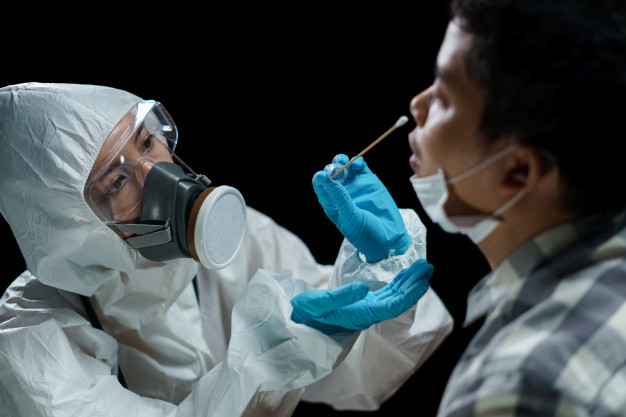Coverall: (2, 86, 323, 417)
Gloves: (281, 257, 446, 349), (306, 151, 414, 264)
Goggles: (76, 92, 179, 226)
mask_weared_incorrect: (399, 65, 504, 240)
with_mask: (89, 109, 247, 272)
